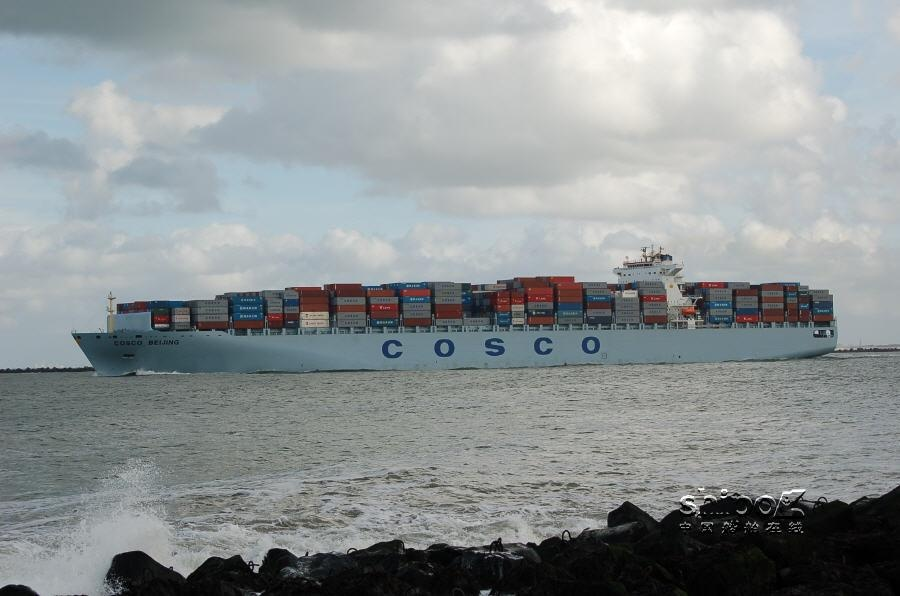Cargoship: (65, 240, 844, 380)
